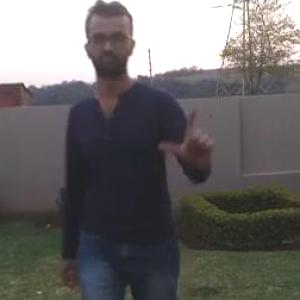land_hand: (158, 92, 217, 172)
